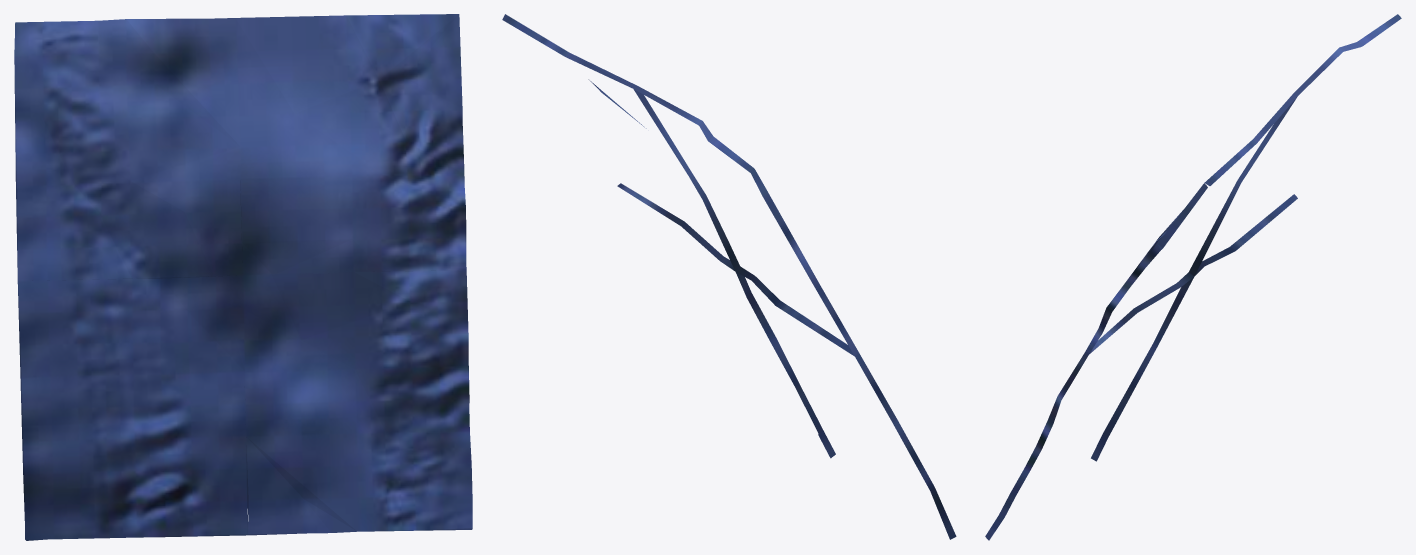
Rendered from level14.glb.
3 renders of one model, left to right at view 1: azimuth 30°, elevation 25°; view 2: azimuth 150°, elevation 25°; view 3: azimuth 270°, elevation 25°, orthographic. The views are drawn at different scales.
Size of the model in its own units: 19399 by 17883 by 16140.
1 material, 1 textured.
